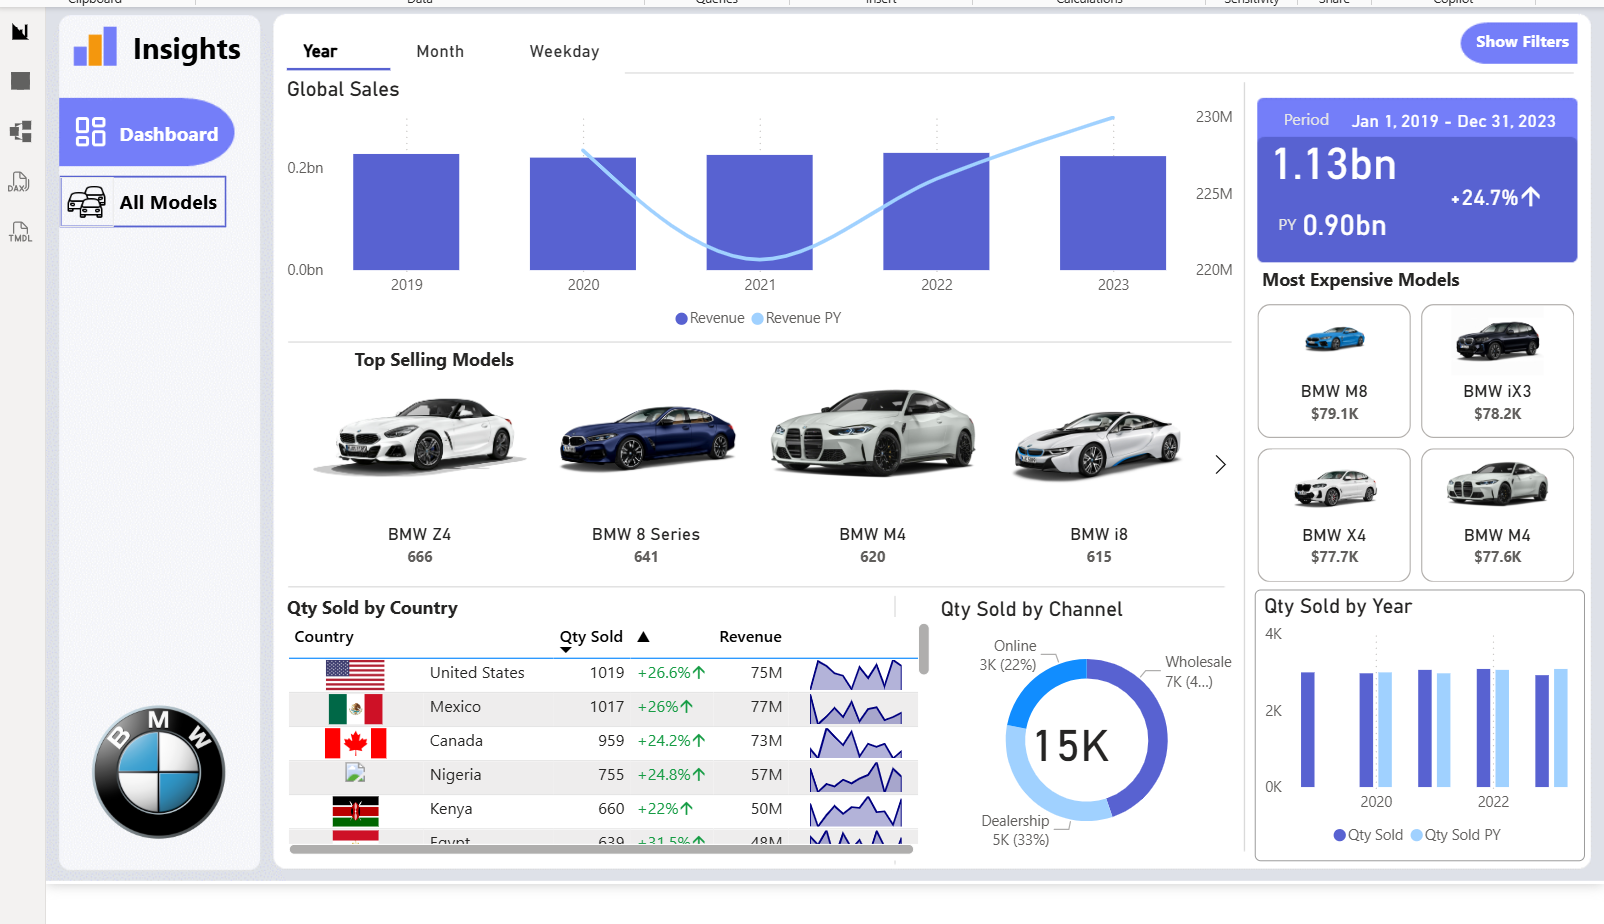

Layout of this report page (visuals, bound fields, positions):
{"tool":"powerbi","page":{"name":"Dashboard","canvas":[1280,720],"ordinal":0},"visuals":[{"type":"lineStackedColumnComboChart","title":"Global Sales","fields":{"Category":["Calendar.Year"],"Y":["_Measures.Revenue"],"Y2":["_Measures.Revenue PY"]},"box":[193.5,57.6,787.7,216.8],"z":0},{"type":"advancedSlicerVisual","fields":{"Values":["PeriodSlicer.PeriodSlicer"]},"box":[193.5,9.6,282.7,48],"z":1000},{"type":"card","fields":{"Values":["_Measures.Revenue"]},"box":[993.5,94.7,127.6,61.7],"z":2000},{"type":"card","fields":{"Values":["_Measures.Revenue PY"]},"box":[1003.1,156.4,127.6,43.9],"z":3000},{"type":"textbox","box":[1003.1,164.7,32.9,27.4],"z":4000},{"type":"card","fields":{"Values":["_Measures.Rev_Variance % Arrow"]},"box":[1143.1,134.5,91.9,43.9],"z":5000},{"type":"card","fields":{"Values":["_Measures.selected period"]},"box":[1058,75.5,196.2,37],"z":6000},{"type":"textbox","box":[1003.1,78.2,64.5,27.4],"z":7000},{"type":"advancedSlicerVisual","fields":{"Values":["dimModel.Model"]},"box":[193.5,274.4,787.7,203.1],"z":8000},{"type":"textbox","box":[248.4,274.4,141.3,30.2],"z":9000},{"type":"advancedSlicerVisual","fields":{"Values":["dimModel.Model"]},"box":[970.2,238.8,310.1,238.8],"z":10000},{"type":"textbox","box":[993.5,208.6,181.1,30.2],"z":11000},{"type":"clusteredColumnChart","title":"Qty Sold by Year","fields":{"Y":["_Measures.Qty Sold","_Measures.Qty Sold PY"],"Category":["Calendar.Year"]},"box":[993,477.9,270.9,223.3],"z":12000},{"type":"donutChart","fields":{"Y":["_Measures.Qty Sold"],"Category":["dimChannel.Channel"]},"box":[730,485,250,216.2],"z":13000},{"type":"card","fields":{"Values":["_Measures.Qty Sold"]},"box":[802.3,568.6,76.7,69.8],"z":14000},{"type":"tableEx","fields":{"Values":["dimRegion.Flag","dimRegion.Country","_Measures.Qty Sold","_Measures.Qty Variance % Arrow","_Measures.Revenue","_Measures.Revenue Sparkline"]},"box":[192.5,501.2,537.5,200],"z":15000},{"type":"textbox","box":[192.5,477.5,181.2,30],"z":16000},{"type":"image","box":[10.9,568.7,162,119.6],"z":17000},{"type":"actionButton","box":[10.9,138.1,137,42.4],"z":18000},{"type":"textbox","box":[55.5,143.5,92.4,32.6],"z":19000},{"type":"image","box":[10.9,139.2,44.6,41.3],"z":20000},{"type":"textbox","box":[55.8,87.2,107,36],"z":21000},{"type":"image","box":[17.4,80.2,38.4,45.3],"z":22000},{"type":"textbox","box":[58.7,12,114.2,43.5],"z":24000},{"type":"image","box":[0,6.5,81.6,48.9],"z":25000},{"type":"actionButton","box":[1162.6,11.6,101.2,31.8],"z":26000}]}

Visuals, with their boxes on the page's 1280x720 design canvas (x1, y1, x2, y2). These are canvas units, not pixel positions in the 1604x924 screenshot, which may show the page scaled, cropped or inside an application window:
"Global Sales" lineStackedColumnComboChart: 194,58,981,274
advancedSlicerVisual - PeriodSlicer.PeriodSlicer: 194,10,476,58
card - _Measures.Revenue: 994,95,1121,156
card - _Measures.Revenue PY: 1003,156,1131,200
textbox: 1003,165,1036,192
card - _Measures.Rev_Variance % Arrow: 1143,134,1235,178
card - _Measures.selected period: 1058,76,1254,112
textbox: 1003,78,1068,106
advancedSlicerVisual - dimModel.Model: 194,274,981,478
textbox: 248,274,390,305
advancedSlicerVisual - dimModel.Model: 970,239,1280,478
textbox: 994,209,1175,239
"Qty Sold by Year" clusteredColumnChart: 993,478,1264,701
donutChart - _Measures.Qty Sold x dimChannel.Channel: 730,485,980,701
card - _Measures.Qty Sold: 802,569,879,638
tableEx - dimRegion.Flag x dimRegion.Country: 192,501,730,701
textbox: 192,478,374,508
image: 11,569,173,688
actionButton: 11,138,148,180
textbox: 56,144,148,176
image: 11,139,56,180
textbox: 56,87,163,123
image: 17,80,56,126
textbox: 59,12,173,56
image: 0,6,82,55
actionButton: 1163,12,1264,43
